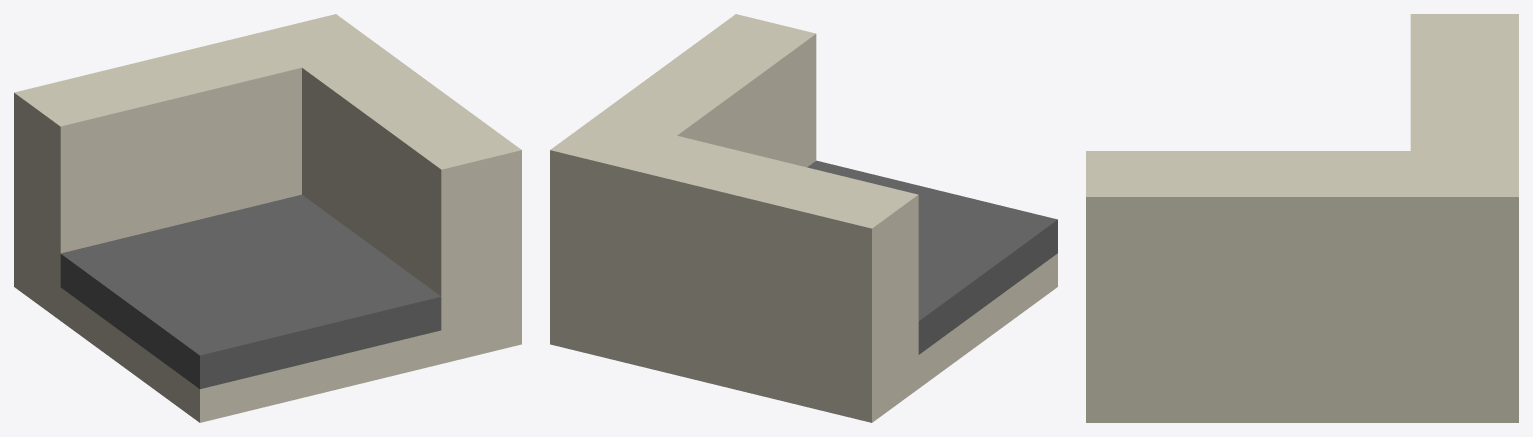
The model's file is tile219.fbx.
3 views of the same model, side by side, from view 1: azimuth 30°, elevation 25°; view 2: azimuth 150°, elevation 25°; view 3: azimuth 270°, elevation 25° (orthographic). The views are drawn at different scales.
Visible parts, largest first — view 1: tile219; view 2: tile219; view 3: tile219.
Part boxes in pixels (left/top/right/bottom): tile219: left=14, top=14, right=521, bottom=422; tile219: left=550, top=14, right=1057, bottom=422; tile219: left=1086, top=14, right=1518, bottom=422.
Bounding box in the file's own units: 10 × 5.77 × 10.
